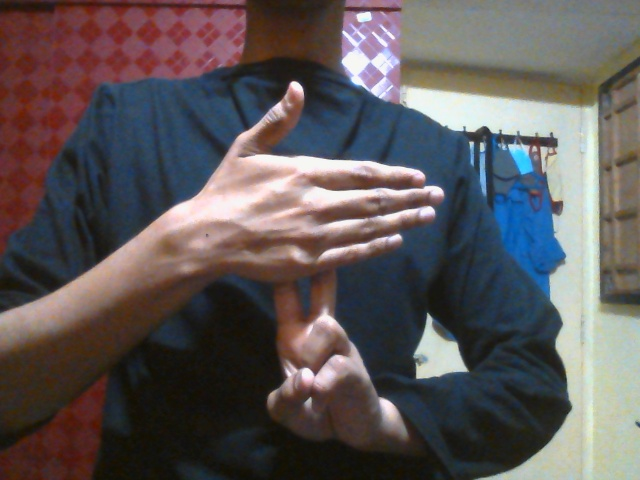N: (203, 78, 447, 452)
